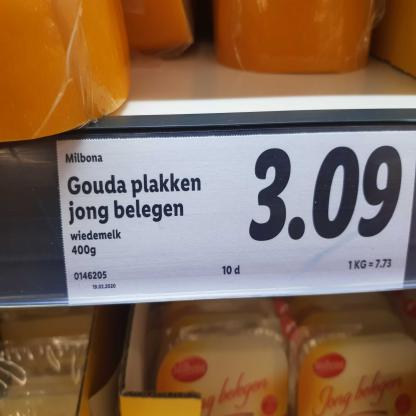prtg: (57, 131, 416, 306)
